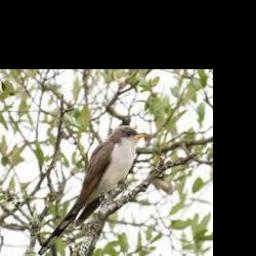Cuckoo: (37, 125, 145, 256)
